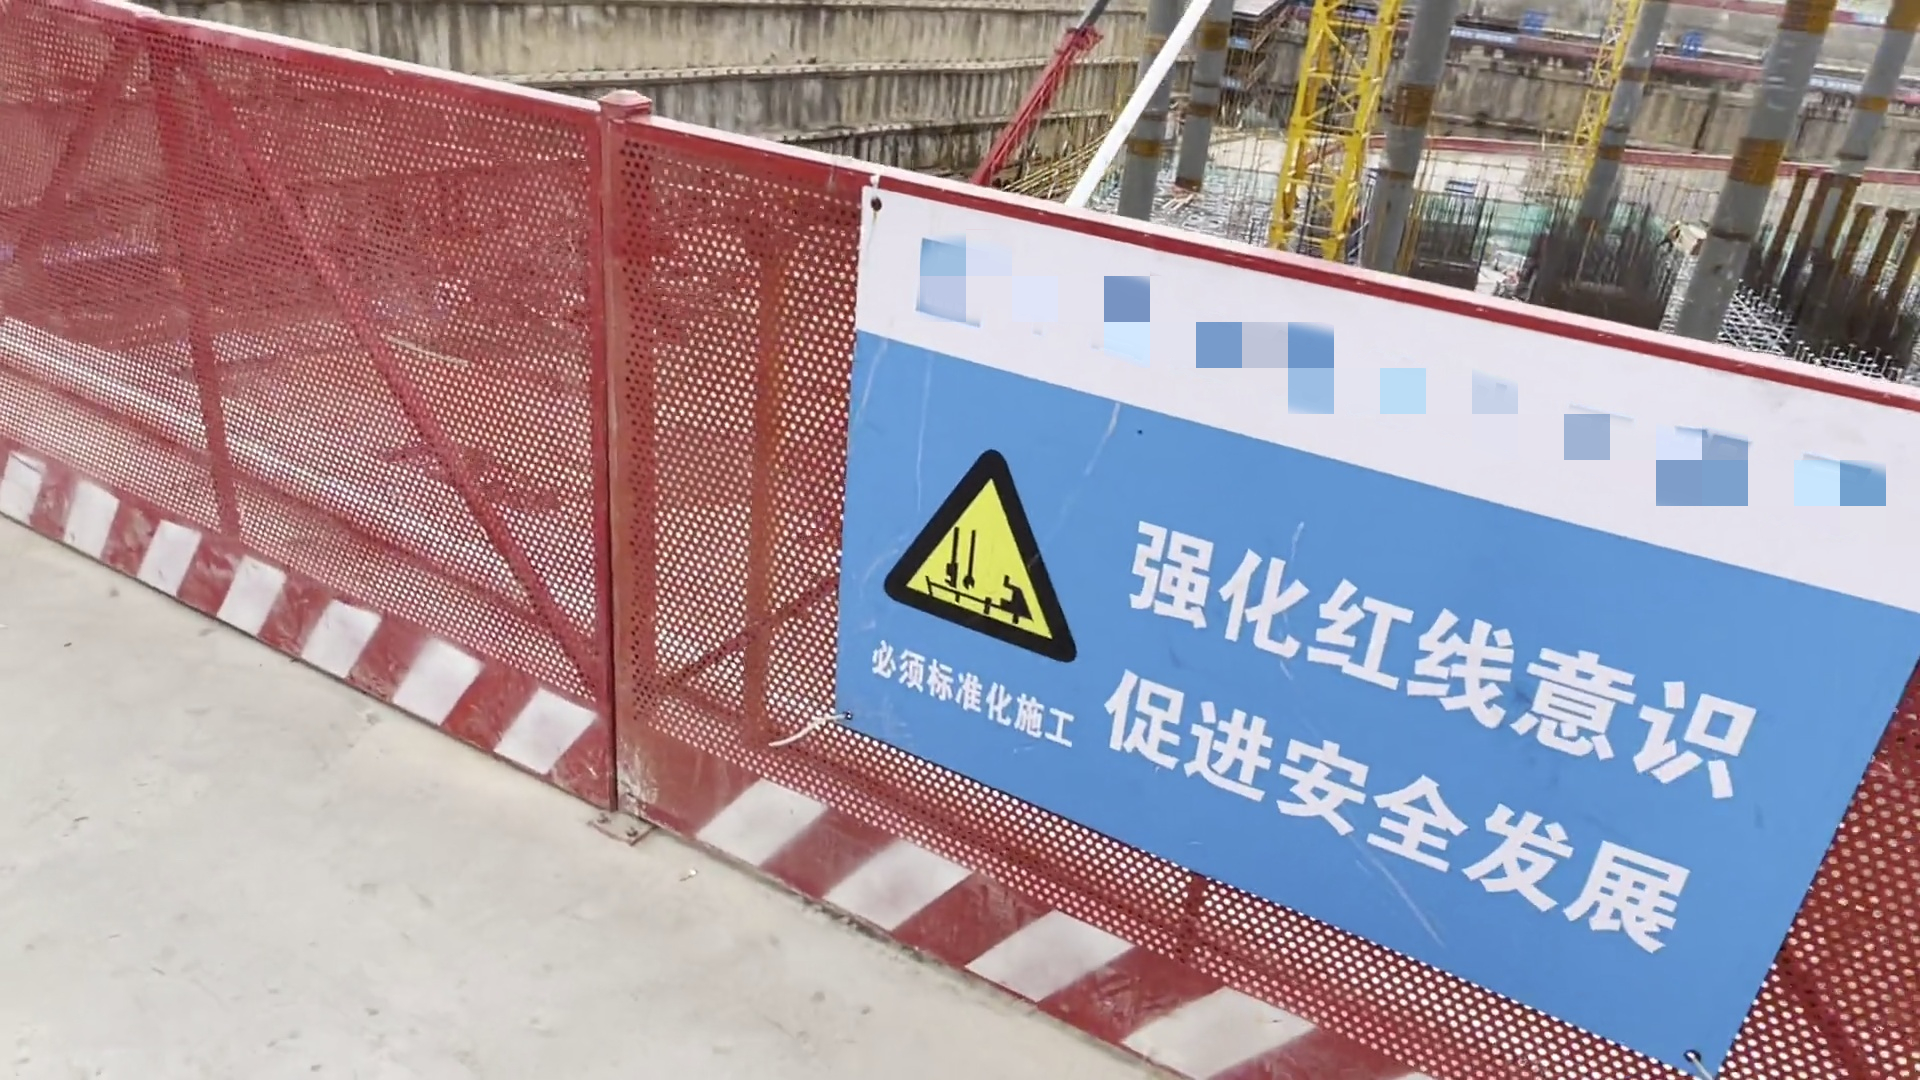fence: (608, 89, 1918, 1069), (1, 2, 605, 817)
person: (1667, 219, 1679, 245)
slogan: (840, 180, 1920, 1073)
